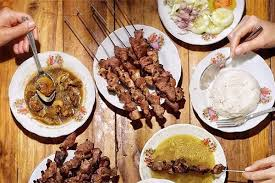sate: (94, 22, 198, 135), (21, 133, 123, 183)
